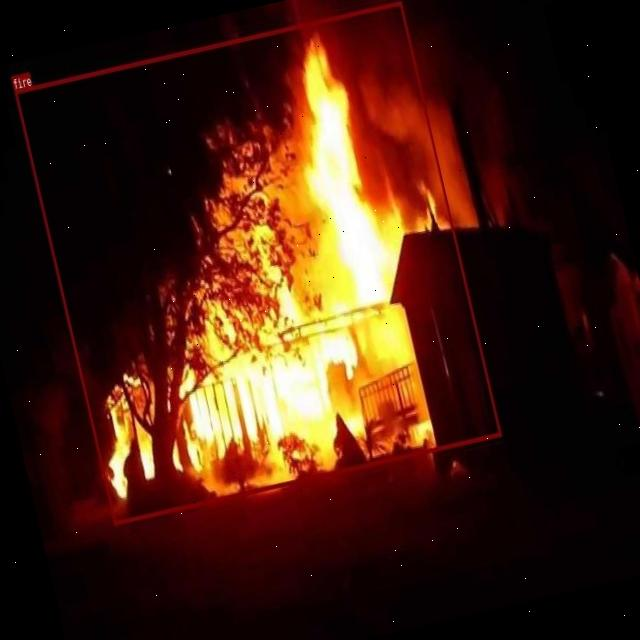fire: (13, 0, 500, 524)
